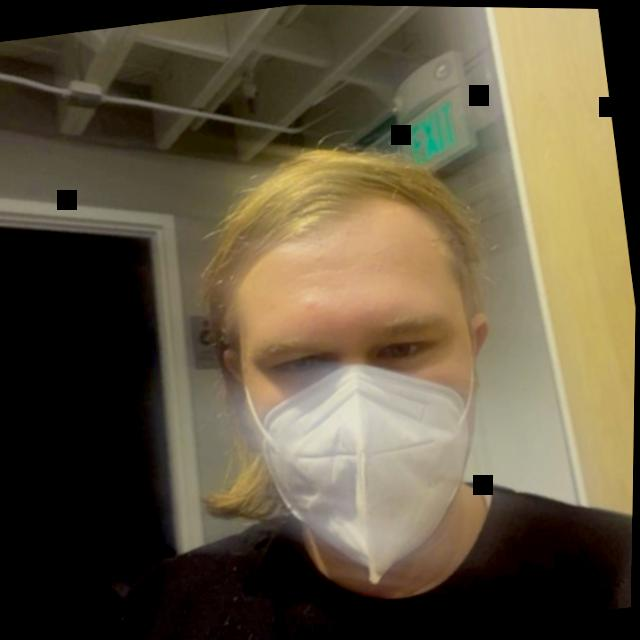Mask: (146, 124, 529, 639)
